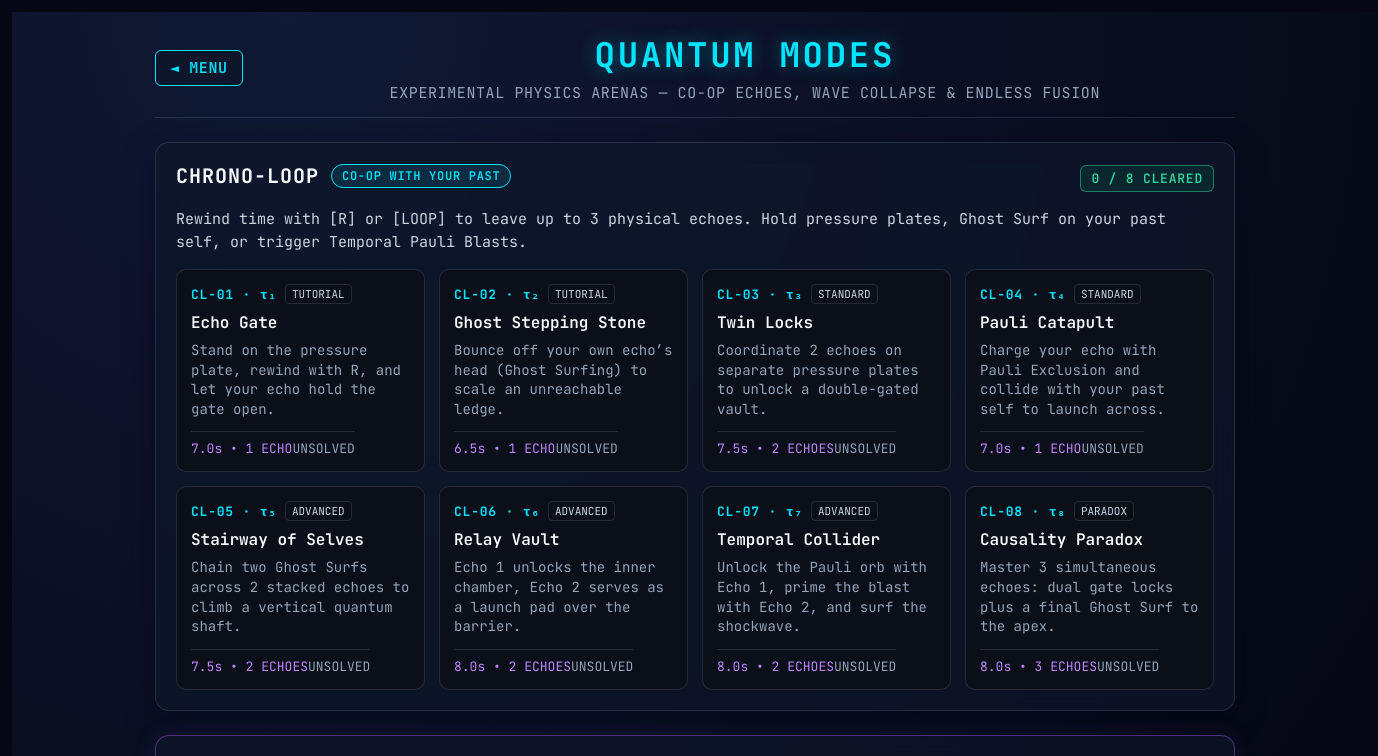
Test: QuantumModesHub component › navigates back to menu and links to /accelerator
Later steps or results of the test are not shown.
Click the button with test id "modes-back-button" at (199, 68), box [155,50,243,86]
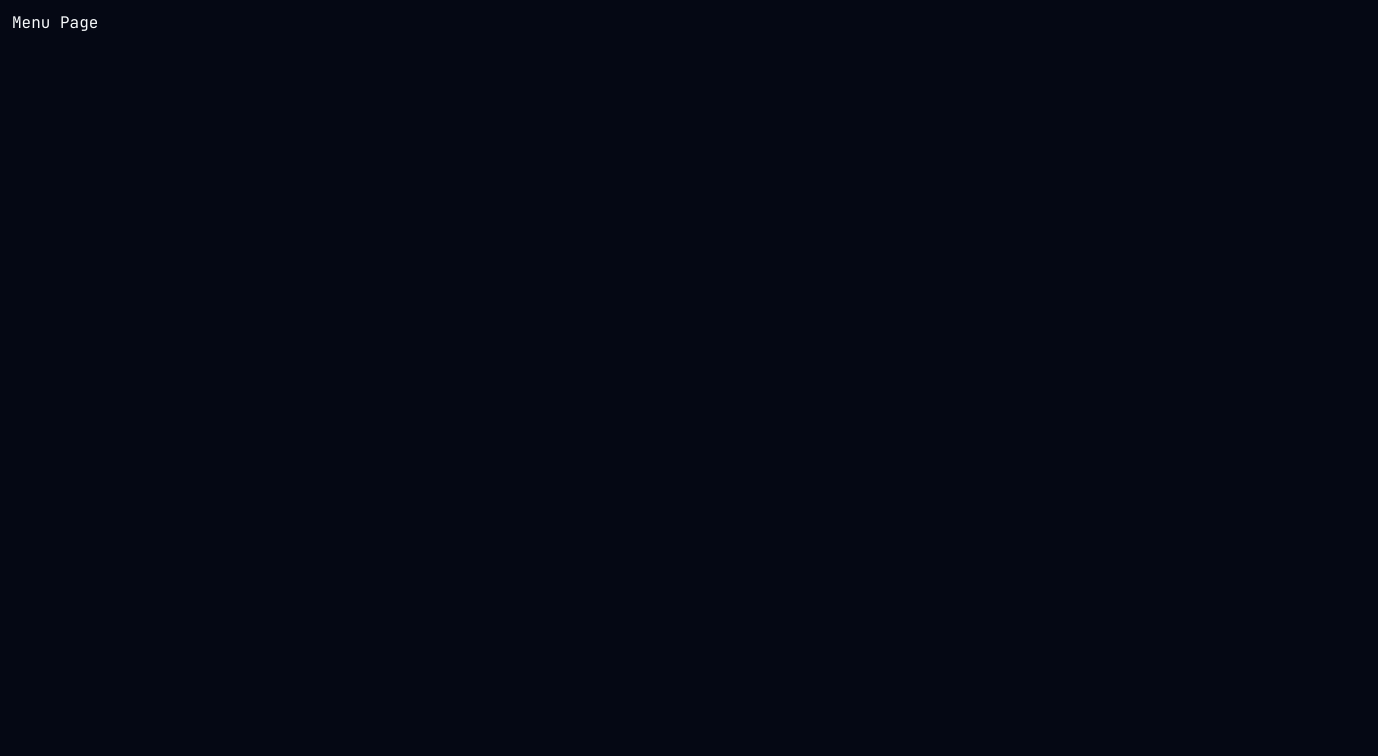
Now the text "Menu Page" is shown, box [12,12,98,33]
